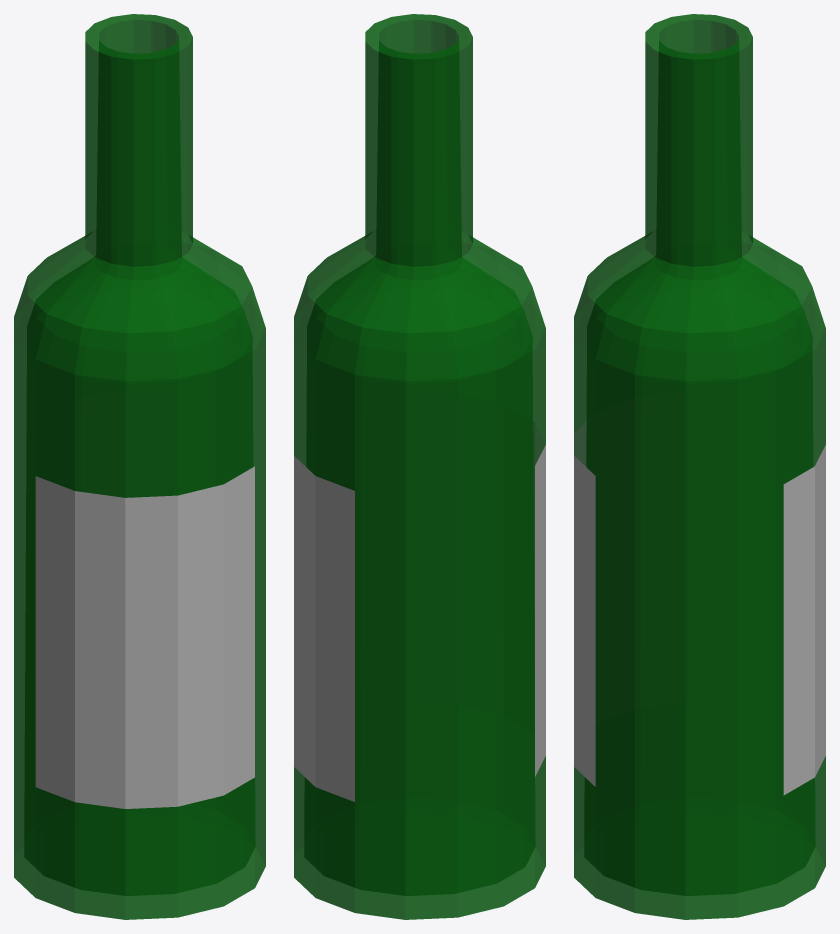
Rendered from Bottle.fbx.
3 renders of one model, left to right at view 1: azimuth 30°, elevation 25°; view 2: azimuth 150°, elevation 25°; view 3: azimuth 270°, elevation 25°, orthographic.
Visible parts, largest first — view 1: Cylinder; view 2: Cylinder; view 3: Cylinder.
Boxes of the visible parts, x1,y1,x2,y2 form: Cylinder: [14, 14, 265, 919]; Cylinder: [294, 14, 545, 919]; Cylinder: [574, 14, 825, 919].
Size of the model in its own units: 36.98 by 134 by 36.78.
